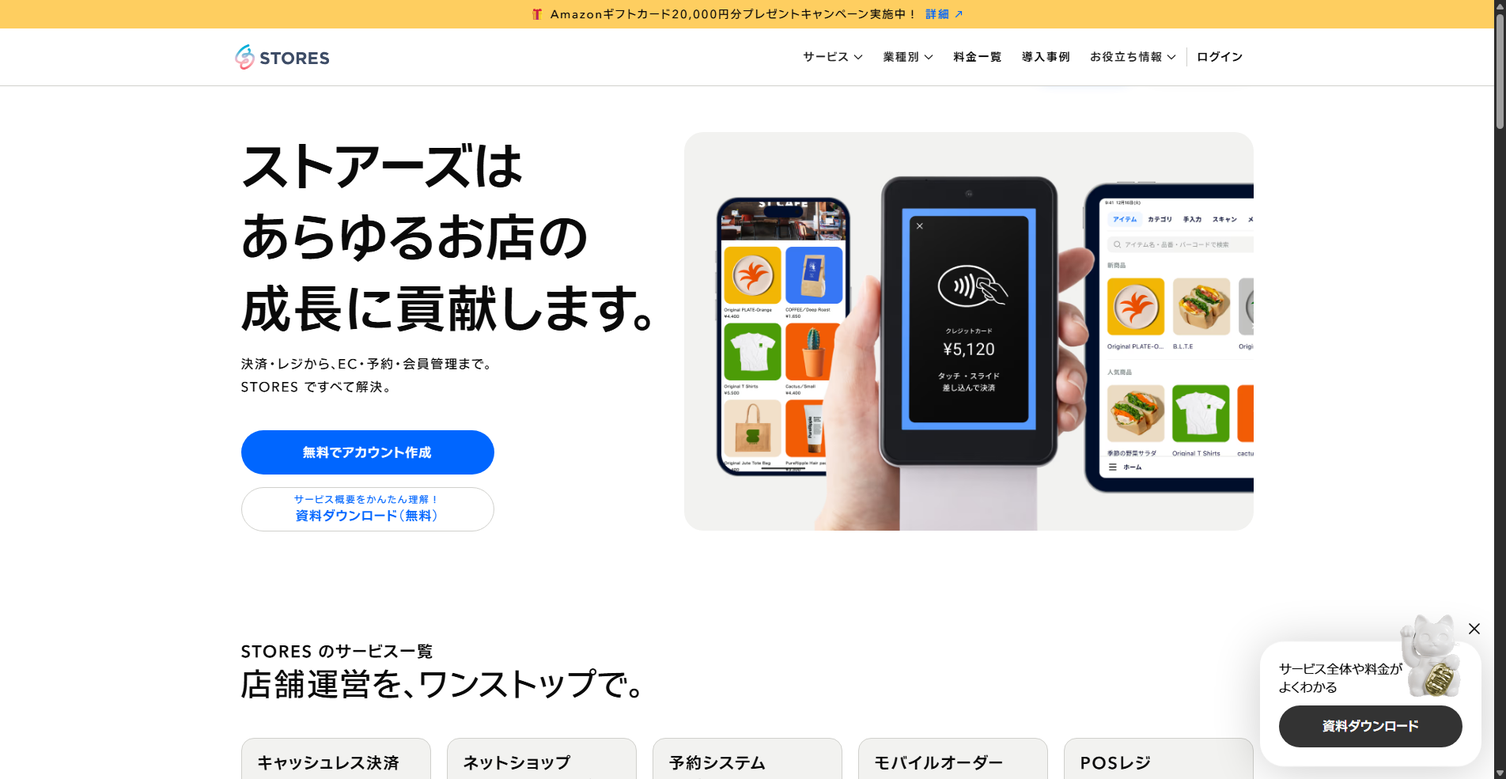button: (241, 430, 494, 474), (241, 487, 494, 531), (1279, 706, 1462, 747), (1142, 44, 1253, 77), (1033, 44, 1136, 77), (296, 507, 439, 525), (1081, 45, 1187, 68), (303, 443, 432, 461), (294, 494, 441, 507), (794, 45, 874, 68), (874, 45, 944, 68), (1462, 616, 1487, 642)
dropdown: (1081, 45, 1187, 68), (794, 45, 874, 68), (874, 45, 944, 68)
link: (241, 44, 395, 77), (241, 44, 336, 69), (1012, 45, 1081, 68), (944, 45, 1012, 68), (1188, 45, 1253, 68), (925, 6, 964, 22)
